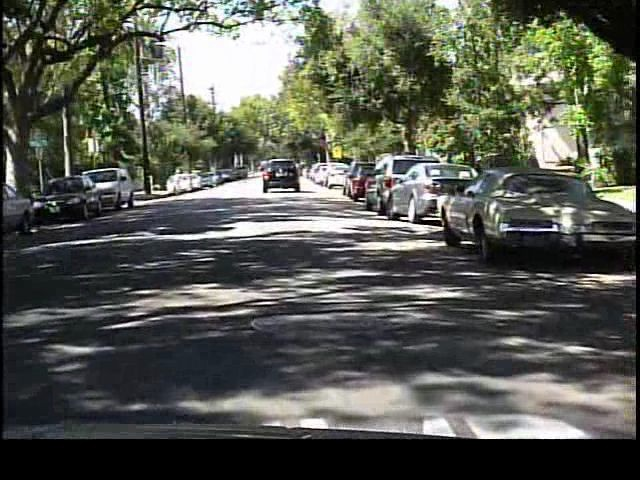person: (172, 168, 187, 199)
